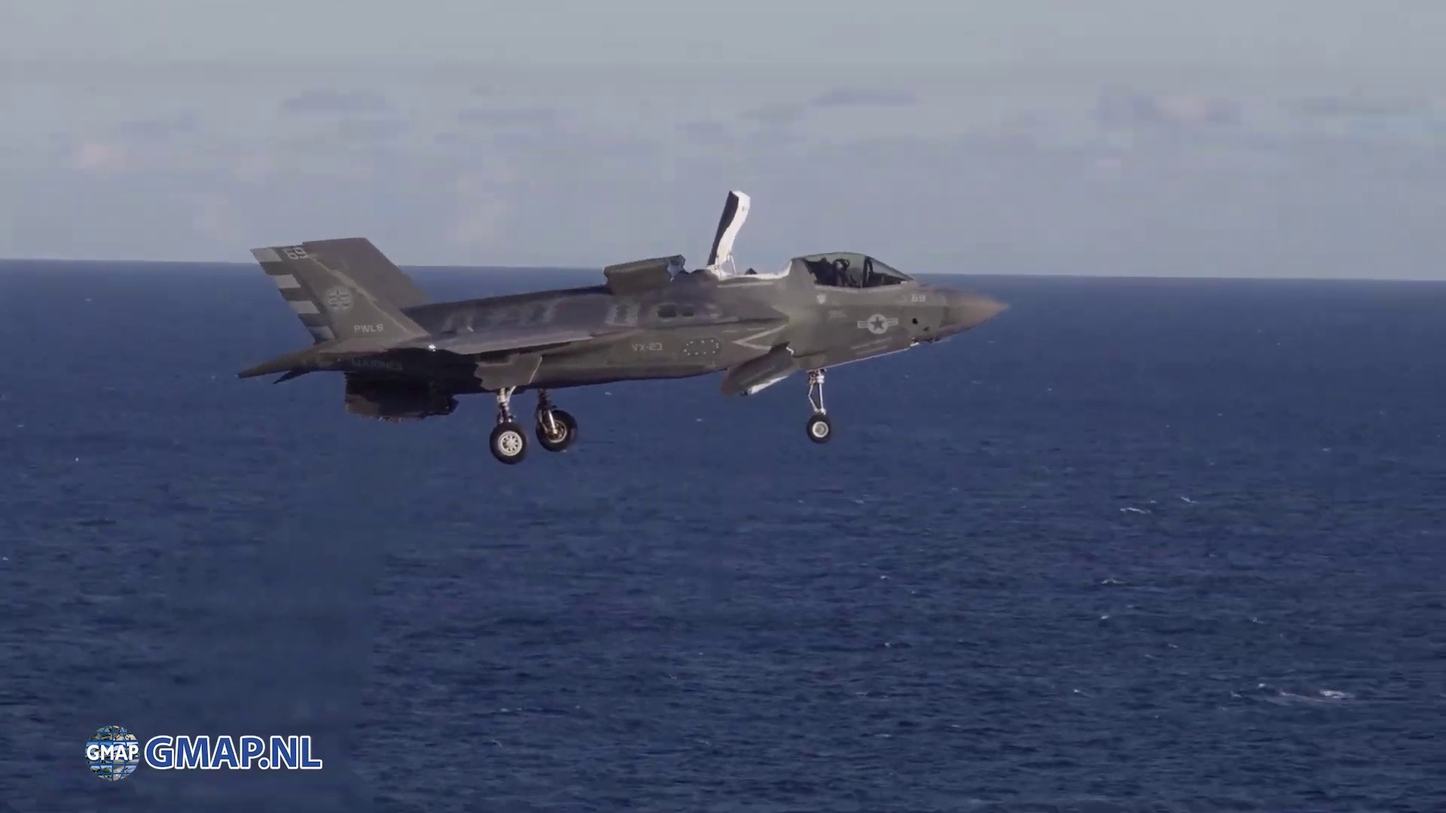F35: (232, 184, 1015, 465)
